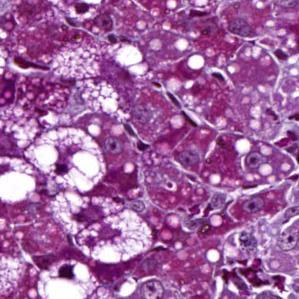ballooning: (20, 123, 112, 199), (68, 203, 157, 265), (32, 255, 105, 299)
